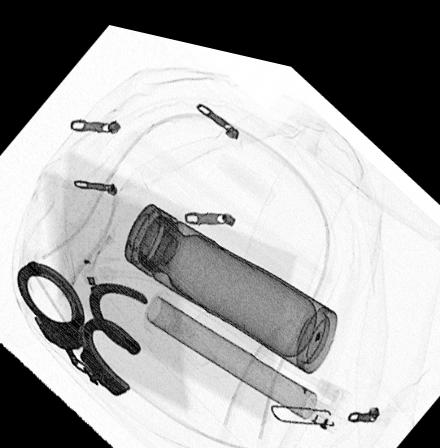HandCuffs: (16, 257, 147, 393)
